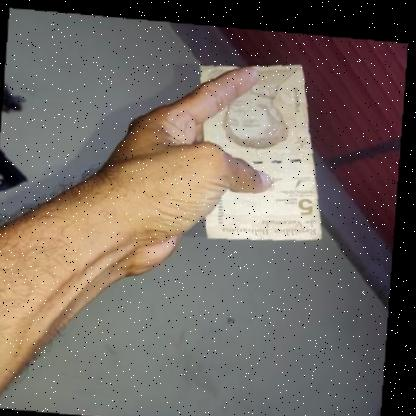five-front-vef: (191, 51, 333, 242)
